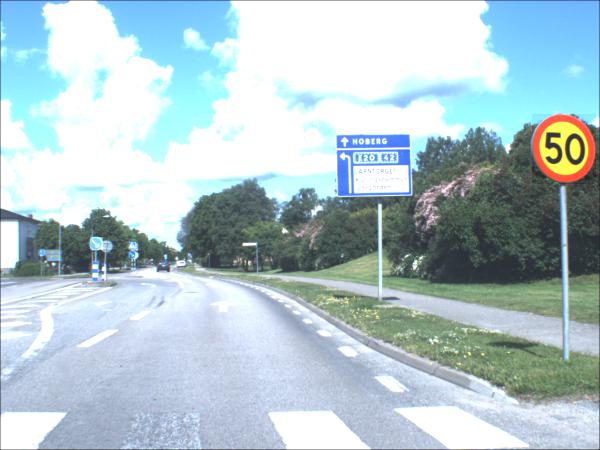50_SIGN: (533, 115, 598, 186)
PASS_RIGHT_SIDE: (91, 238, 105, 252), (131, 252, 137, 260)
PEDESTRIAN_CROSSING: (130, 243, 138, 251)
